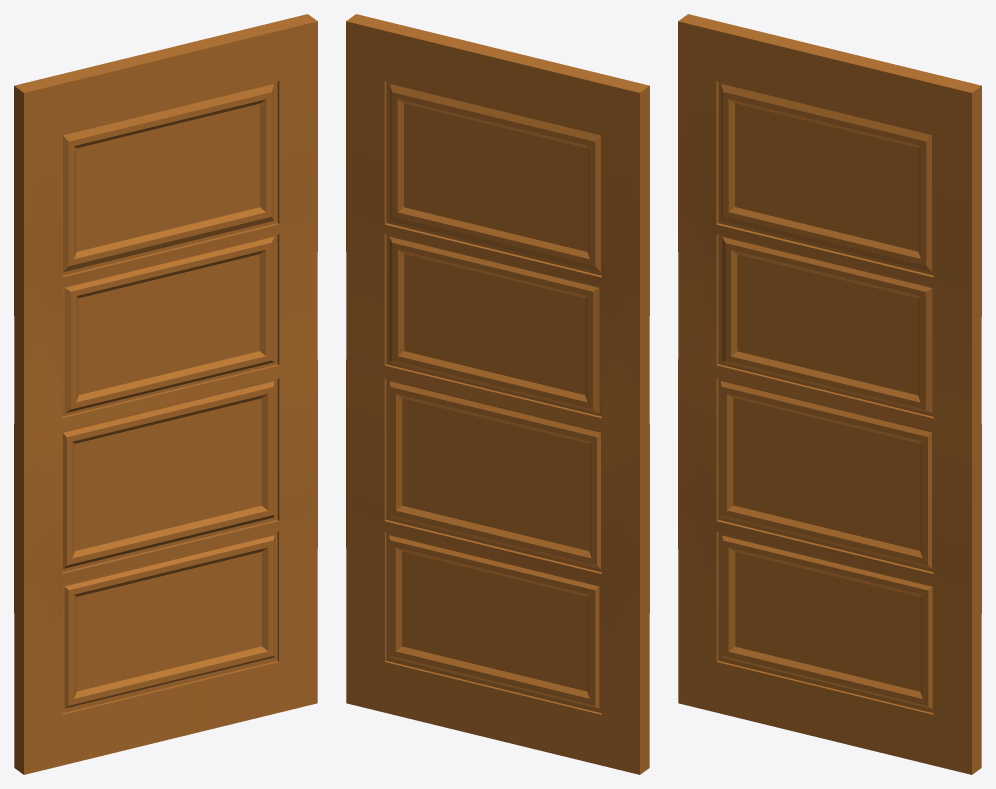
File: Doorway_Double_7_mesh_2_1.obj
3 views of the same model, side by side, from view 1: azimuth 30°, elevation 25°; view 2: azimuth 150°, elevation 25°; view 3: azimuth 330°, elevation 25° (orthographic).
Bounding box in the file's own units: 0.916 × 2.03 × 0.0542.
